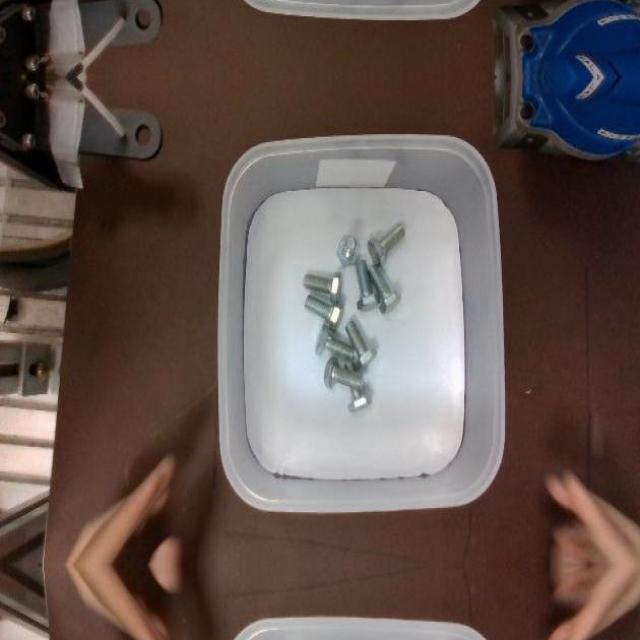screw: (368, 263, 401, 314), (367, 222, 405, 266), (345, 318, 377, 369), (304, 292, 344, 330), (323, 356, 365, 390), (315, 323, 353, 360), (356, 260, 381, 311), (303, 271, 341, 302), (336, 233, 360, 264)
